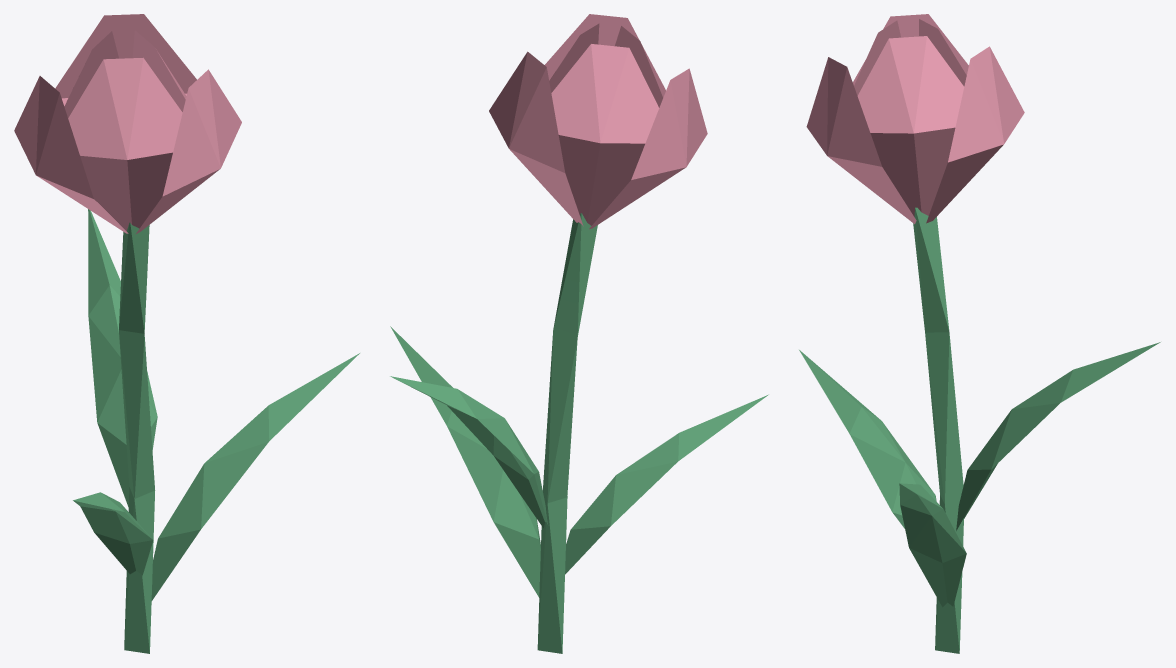
The model's file is Hilly_Prop_Flower_Lily_Pink.glb.
3 renders of one model, left to right at view 1: azimuth 30°, elevation 25°; view 2: azimuth 150°, elevation 25°; view 3: azimuth 270°, elevation 25°, orthographic. The views are drawn at different scales.
Parts seen in each view (by area): view 1: Hilly_Prop_Flower_Lily_Pink; view 2: Hilly_Prop_Flower_Lily_Pink; view 3: Hilly_Prop_Flower_Lily_Pink.
Boxes of the visible parts, x1,y1,x2,y2 form: Hilly_Prop_Flower_Lily_Pink: [14, 14, 359, 653]; Hilly_Prop_Flower_Lily_Pink: [390, 14, 768, 653]; Hilly_Prop_Flower_Lily_Pink: [799, 14, 1160, 653].
Bounding box in the file's own units: 0.3275 × 0.5799 × 0.3152.
